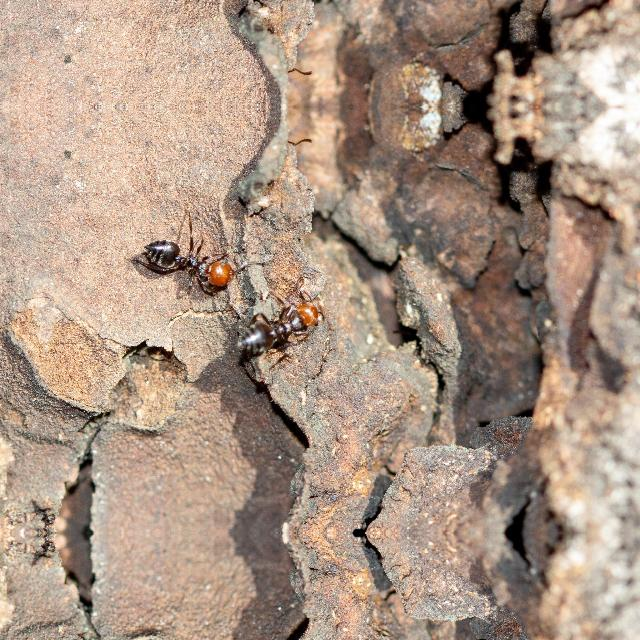Crematogaster: (139, 233, 251, 299), (232, 285, 321, 367)
